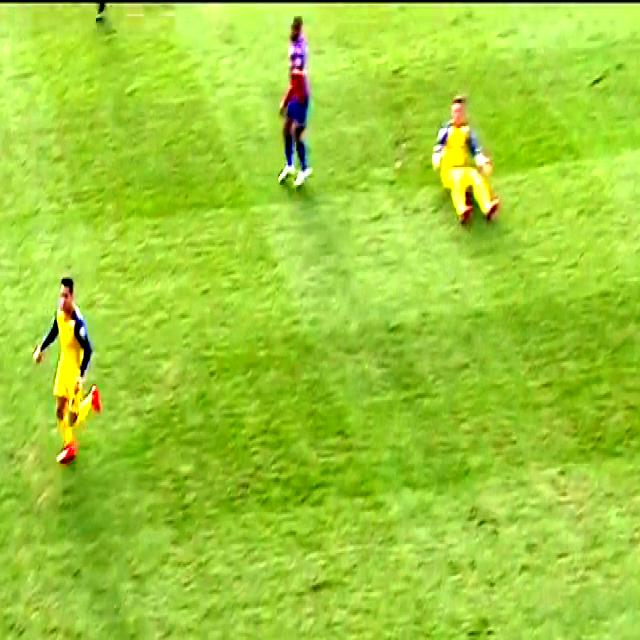soccer-player: (27, 266, 113, 468), (270, 12, 334, 198), (428, 87, 509, 230)
